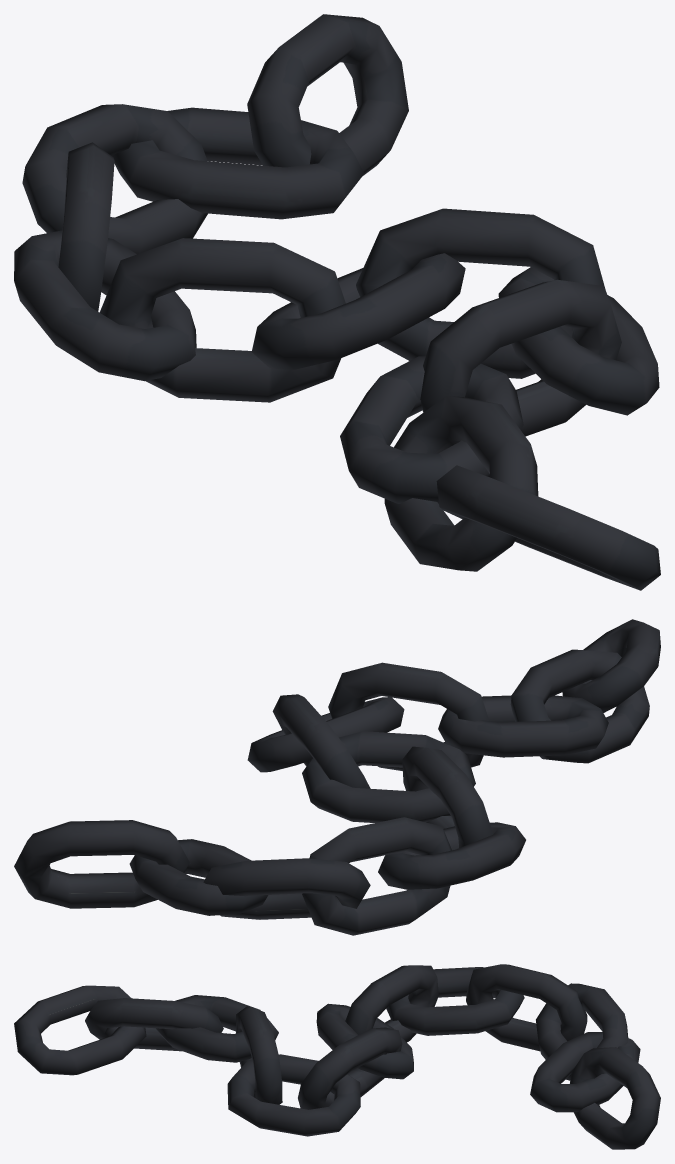
File: SM_PROP_chain_dungeon_03.fbx
3 views of the same model, one above another, from view 1: azimuth 30°, elevation 25°; view 2: azimuth 150°, elevation 25°; view 3: azimuth 270°, elevation 25° (orthographic). The views are drawn at different scales.
Parts seen in each view (by area): view 1: SM_PROP_chain_dungeon_03; view 2: SM_PROP_chain_dungeon_03; view 3: SM_PROP_chain_dungeon_03.
Boxes of the visible parts, <box> form: SM_PROP_chain_dungeon_03: <box>14,14,660,590</box>; SM_PROP_chain_dungeon_03: <box>14,619,660,935</box>; SM_PROP_chain_dungeon_03: <box>14,964,660,1149</box>.
Bounding box in the file's own units: 100 × 27.41 × 189.
